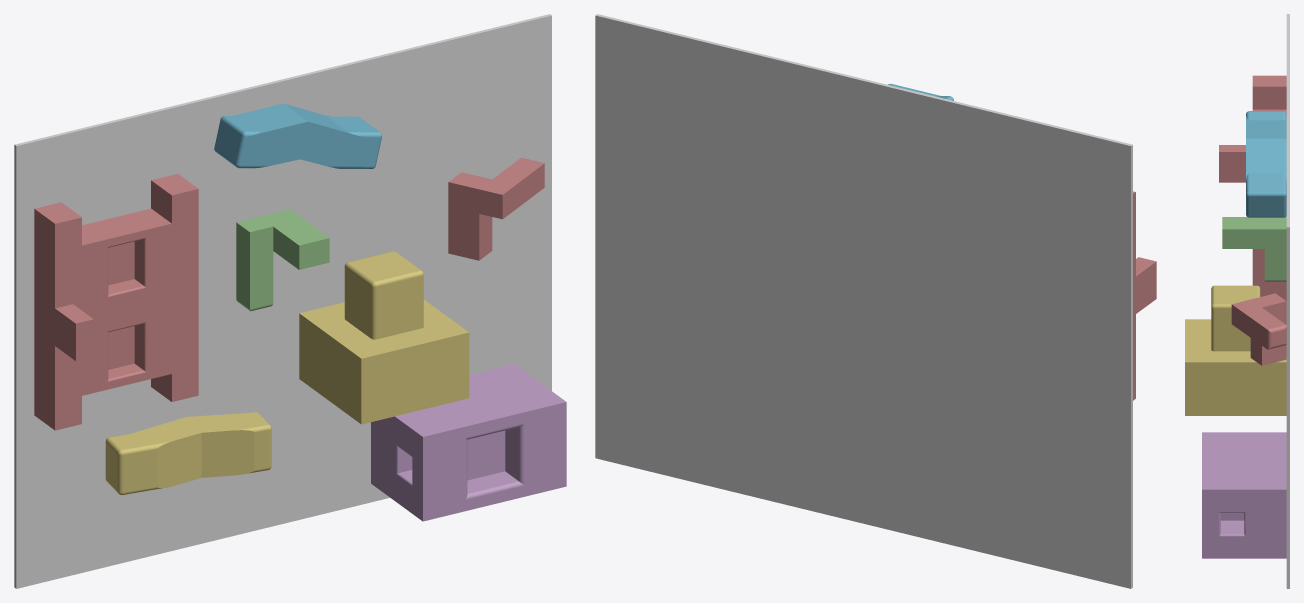
The model's file is pickup_layout.glb.
3 renders of one model, left to right at view 1: azimuth 30°, elevation 25°; view 2: azimuth 150°, elevation 25°; view 3: azimuth 270°, elevation 25°, orthographic. The views are drawn at different scales.
Visible parts, largest first — view 1: world, 0.obj, 3.obj, 6.obj, 1.obj, 2.obj, 4.obj, 5.obj; view 2: world, 0.obj; view 3: 3.obj, 6.obj, 2.obj, 0.obj, 5.obj, 4.obj, world.
Boxes of the visible parts, left/top/right/bottom form: world: left=14, top=14, right=551, bottom=588; 0.obj: left=34, top=174, right=198, bottom=430; 3.obj: left=371, top=364, right=566, bottom=521; 6.obj: left=299, top=251, right=469, bottom=424; 1.obj: left=105, top=412, right=271, bottom=495; 2.obj: left=214, top=103, right=382, bottom=168; 4.obj: left=236, top=209, right=329, bottom=311; 5.obj: left=448, top=158, right=544, bottom=260; world: left=595, top=14, right=1132, bottom=588; 0.obj: left=1133, top=191, right=1156, bottom=400; 3.obj: left=1202, top=432, right=1286, bottom=558; 6.obj: left=1185, top=285, right=1286, bottom=415; 2.obj: left=1246, top=111, right=1286, bottom=217; 0.obj: left=1219, top=75, right=1286, bottom=300; 5.obj: left=1231, top=293, right=1286, bottom=365; 4.obj: left=1222, top=215, right=1286, bottom=281; world: left=1286, top=14, right=1289, bottom=588.
Size of the model in its own units: 29.83 by 23.56 by 6.2.
